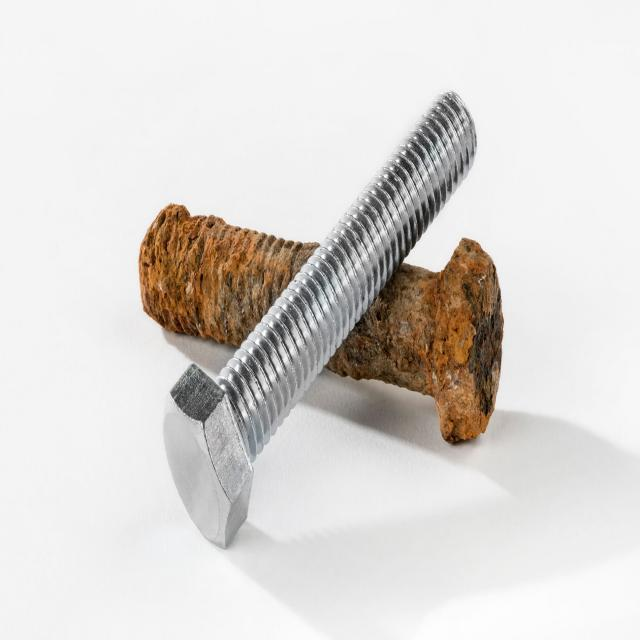Uniform Corrosion: (327, 239, 503, 443), (140, 204, 318, 346)
